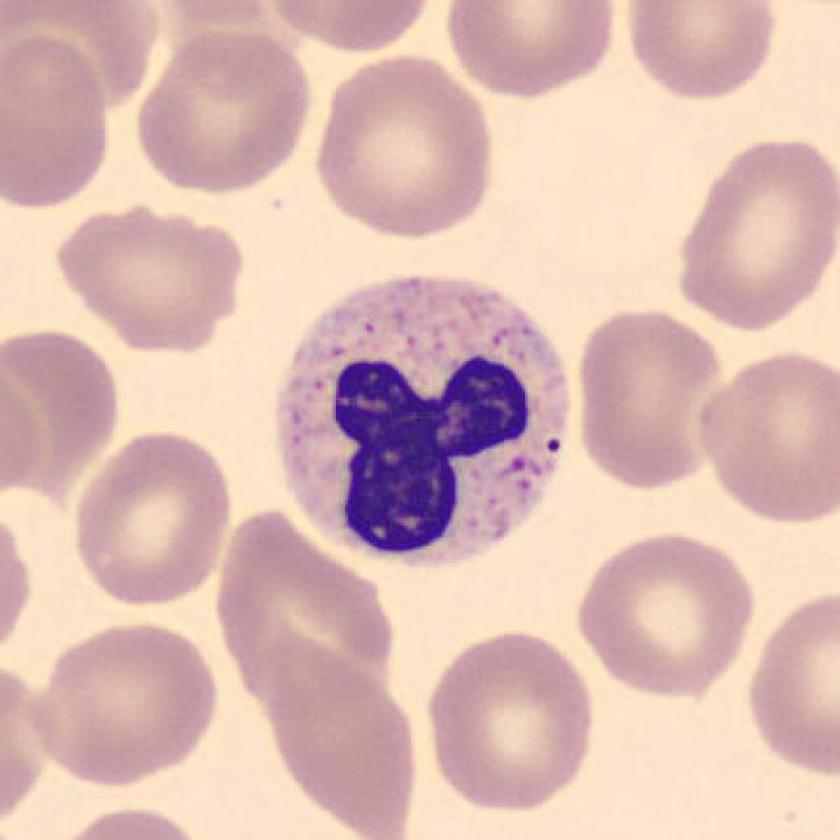neutrophil: (281, 278, 568, 568)
